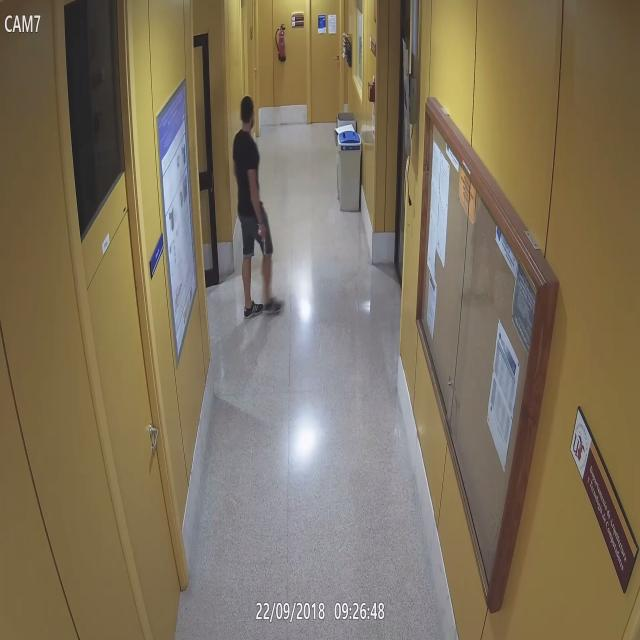pistol: (258, 221, 268, 256)
